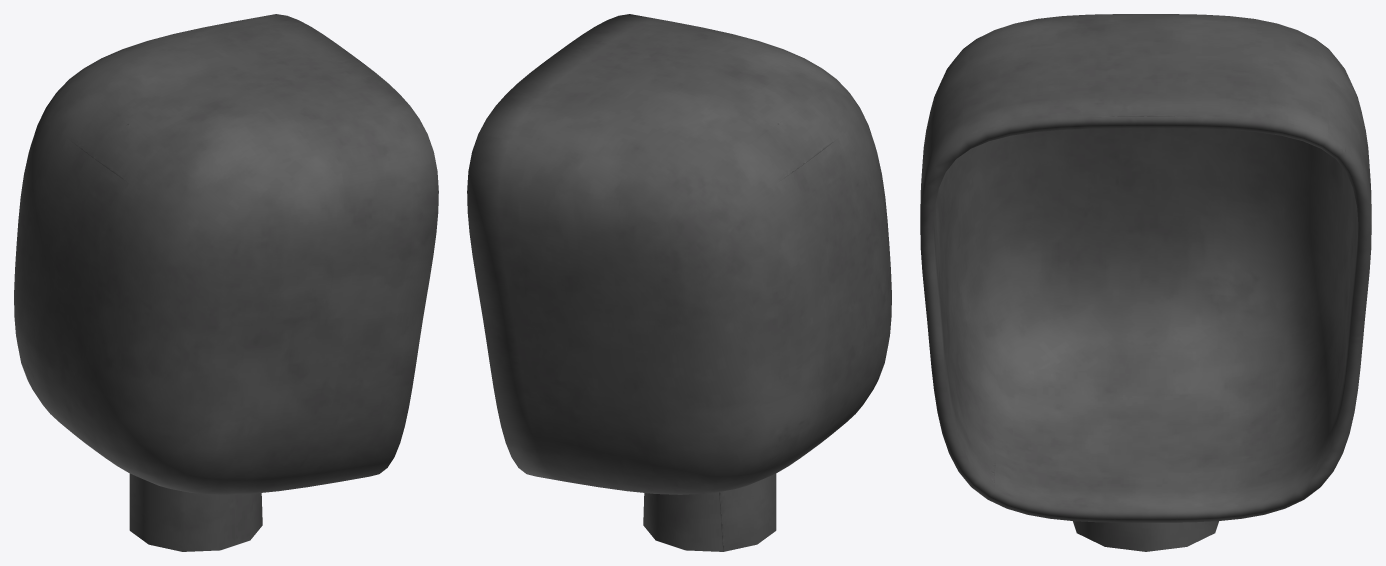
File: scoop_random-1.glb
3 views of the same model, side by side, from view 1: azimuth 30°, elevation 25°; view 2: azimuth 150°, elevation 25°; view 3: azimuth 270°, elevation 25° (orthographic). The views are drawn at different scales.
Visible parts, largest first — view 1: scoop_random; view 2: scoop_random; view 3: scoop_random.
Boxes of the visible parts, x1,y1,x2,y2 form: scoop_random: (14,14,438,551); scoop_random: (467,14,891,551); scoop_random: (920,14,1371,551).
Size of the model in its own units: 0.124 by 0.1788 by 0.1483.
Materials: 1 (1 with a texture image).
